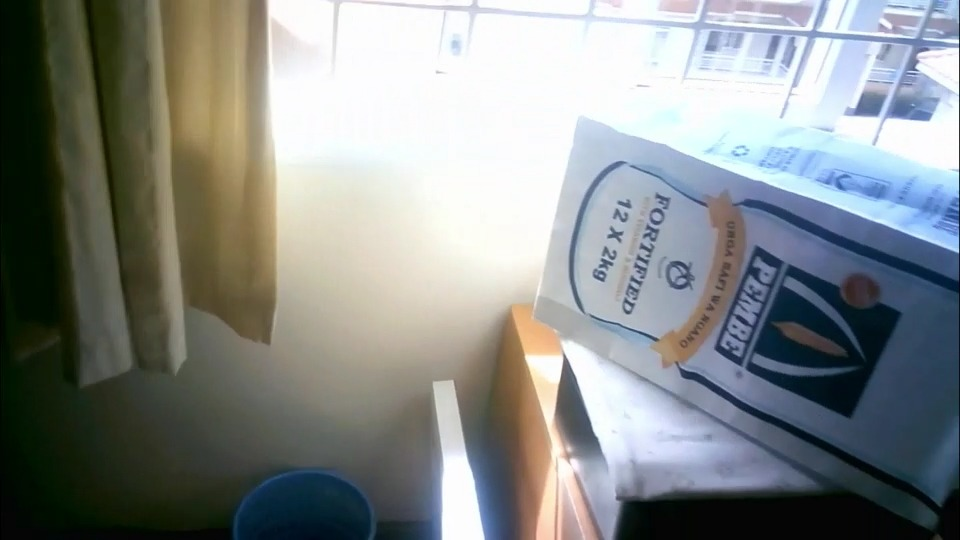wheat_flour_blue_label: (533, 86, 957, 529)
